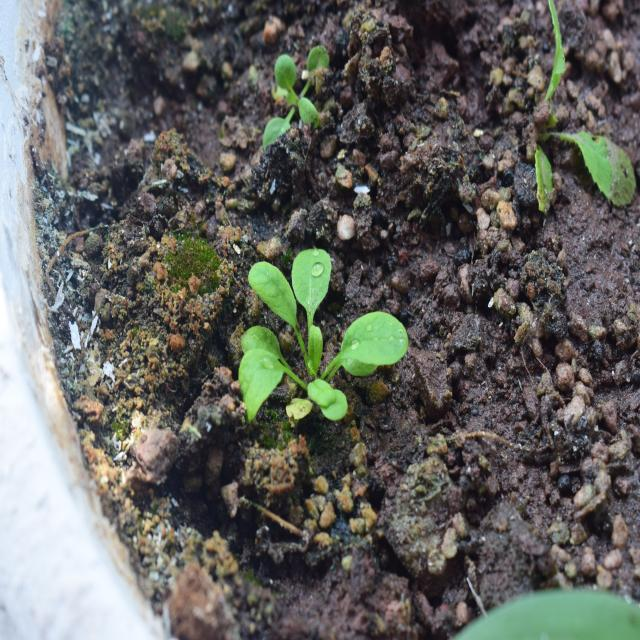Shepherd_Purse: (220, 236, 406, 449)
